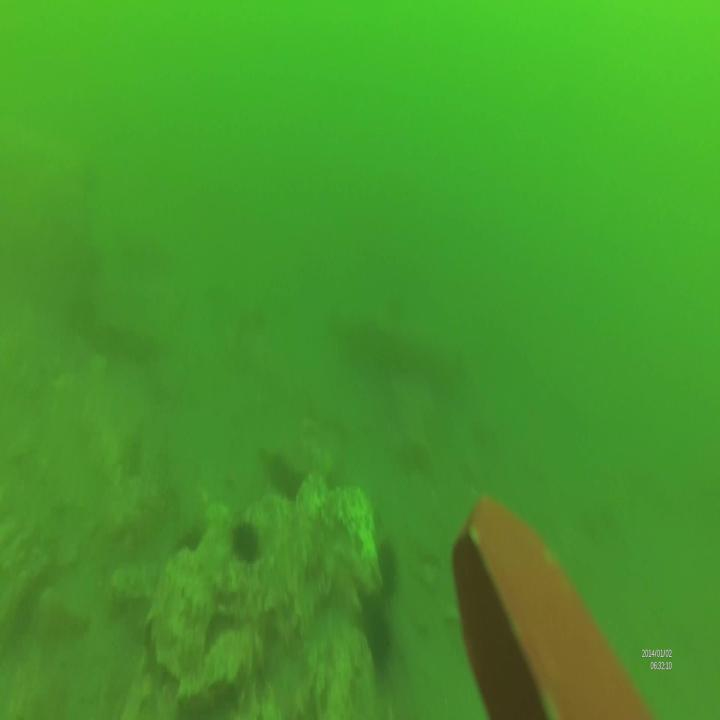echinus: (348, 598, 393, 678), (365, 536, 396, 594), (229, 516, 260, 566)
